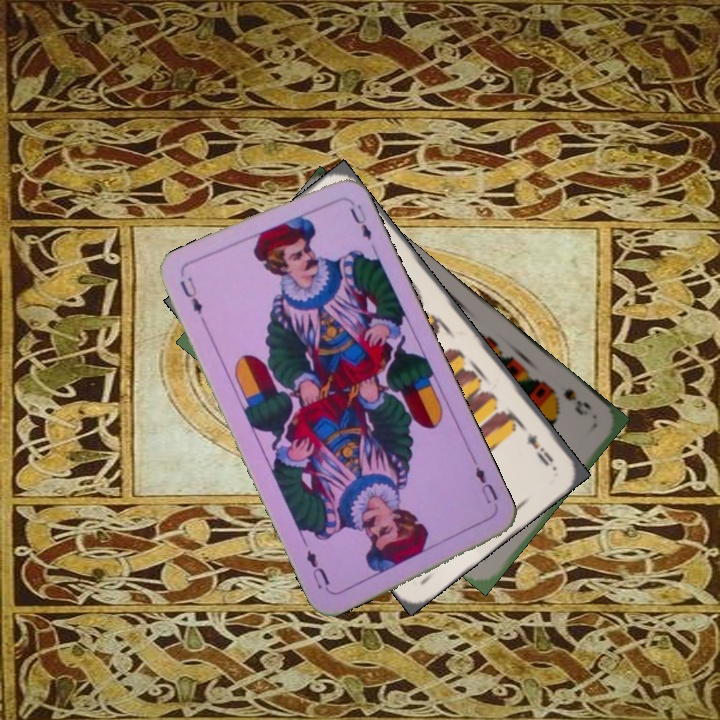E9: (522, 428, 556, 469)
EU: (469, 457, 501, 507), (176, 273, 205, 317)
S9: (546, 383, 594, 419)
